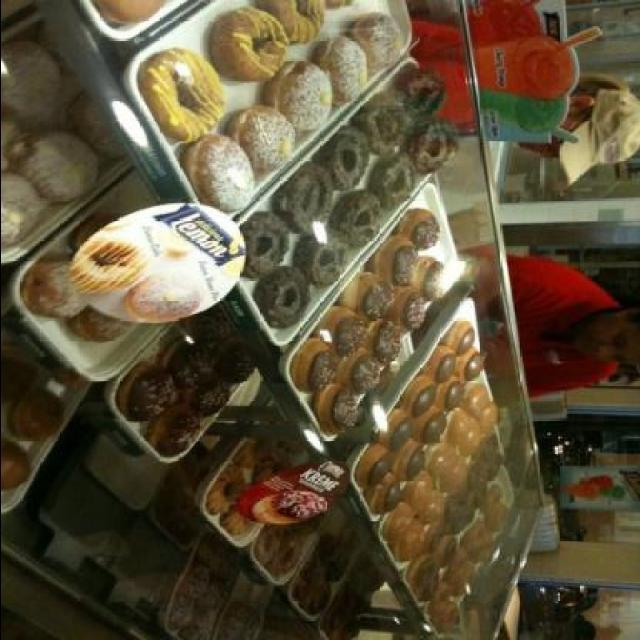Donuts: (10, 1, 513, 639)
